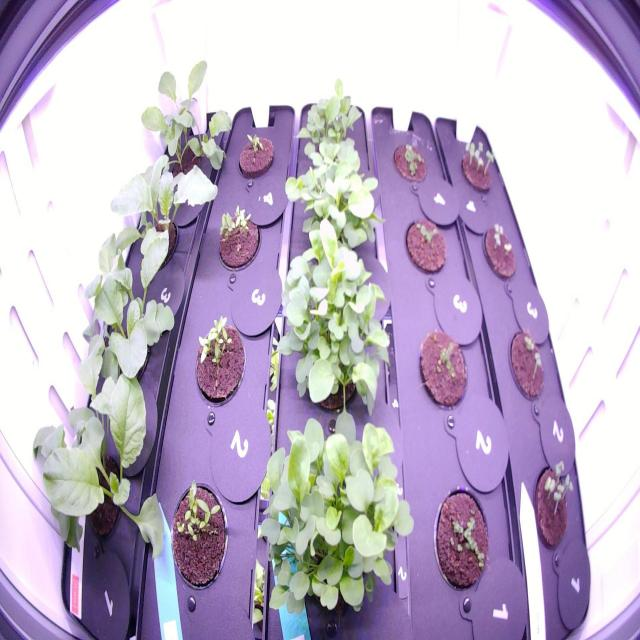germination: (160, 469, 233, 604), (428, 476, 496, 602), (187, 308, 250, 412), (525, 451, 581, 565), (412, 318, 473, 417), (395, 204, 451, 289), (505, 316, 552, 413), (212, 199, 265, 280), (451, 130, 500, 202), (477, 213, 522, 289), (384, 133, 432, 195), (235, 127, 279, 187)
